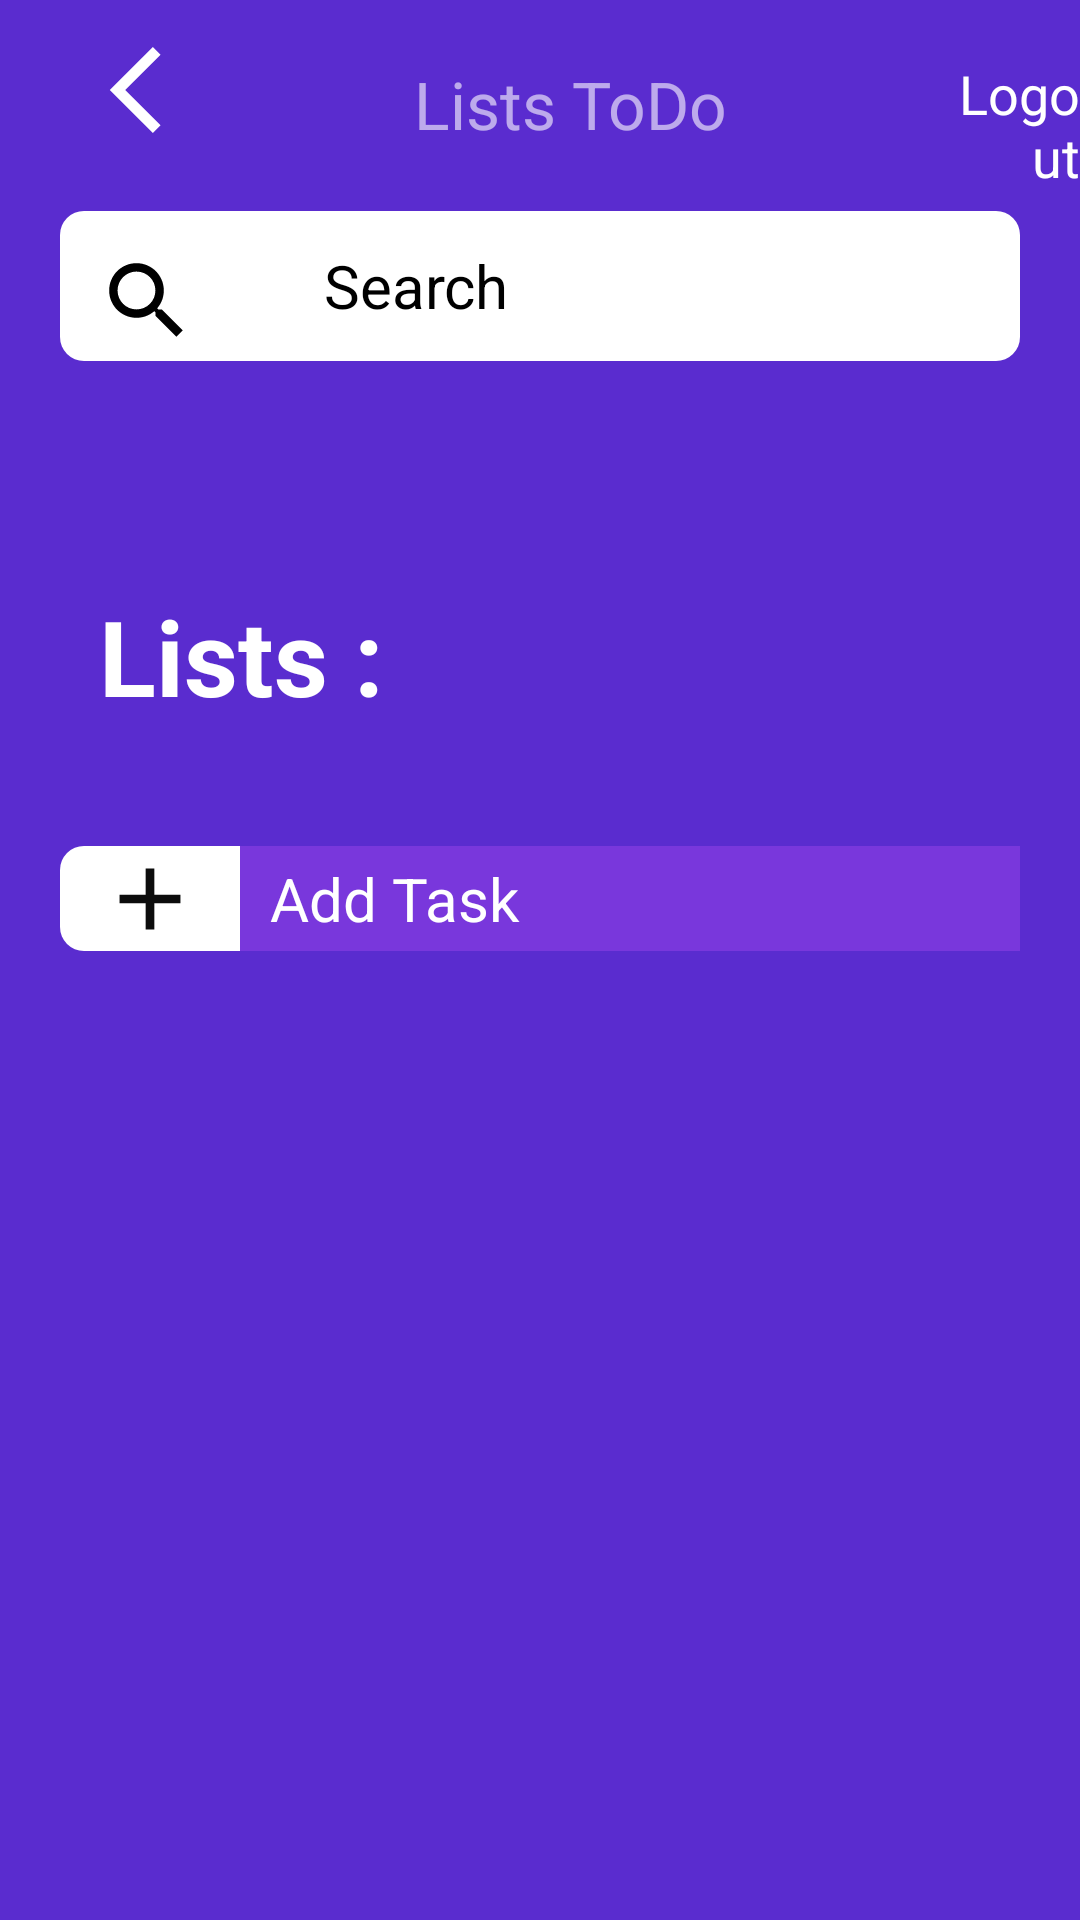

Screen size 1080 × 1920. Icon name, then its center in pixels as point (x, y):
arrowback: point (135, 90)
